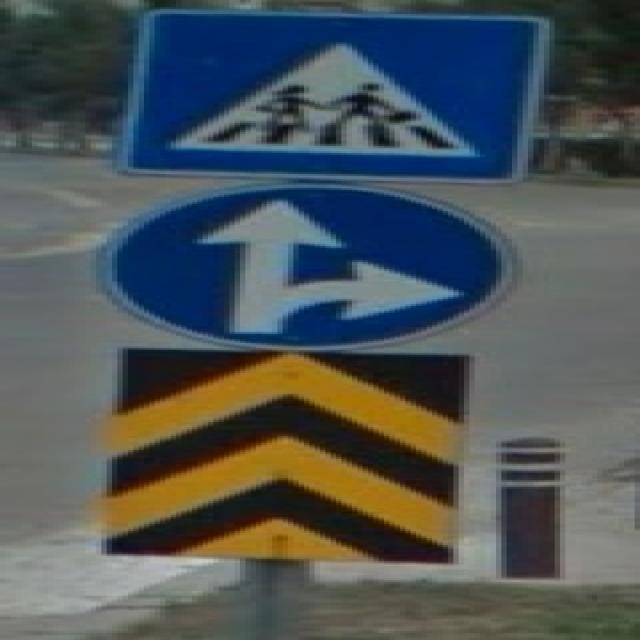Straight or Right: (110, 190, 489, 348)
